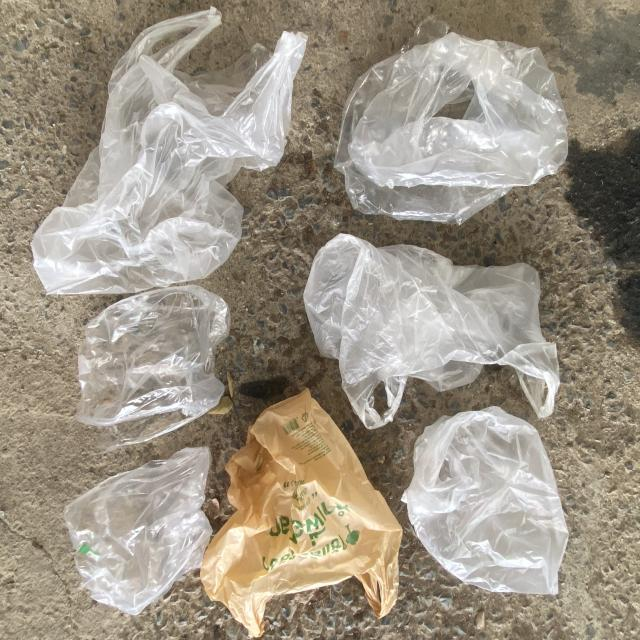Single-layer Plastic: (31, 8, 306, 294), (304, 234, 560, 429), (200, 390, 401, 638), (335, 15, 568, 224), (402, 406, 569, 595), (76, 285, 230, 452), (64, 448, 211, 615)
